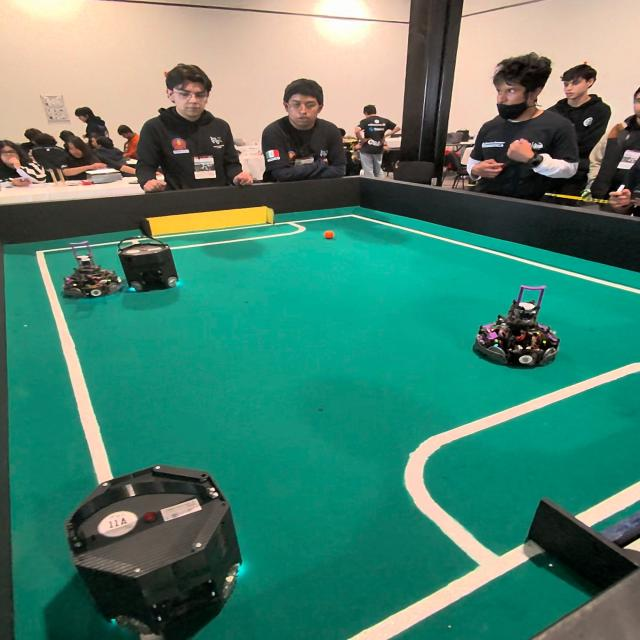Robot: (54, 453, 266, 638), (477, 290, 564, 376), (116, 226, 183, 302), (60, 252, 120, 302)
pelota: (309, 219, 345, 248)
